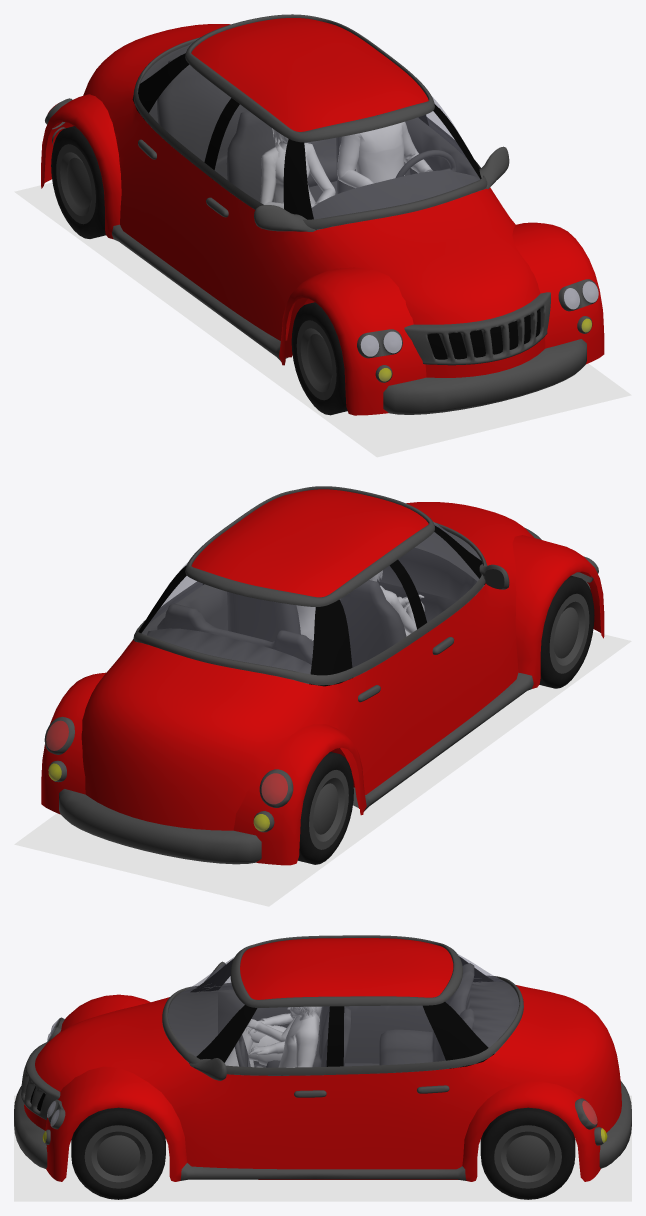
File: conceptSedan01.obj
3 renders of one model, top to bottom at view 1: azimuth 30°, elevation 25°; view 2: azimuth 150°, elevation 25°; view 3: azimuth 270°, elevation 25°, orthographic. The views are drawn at different scales.
Parts seen in each view (by area): view 1: 31, 8, Car_fenders_Car_fenders_Car_36, ground_1, 25, Bumper_Bumper_Chrome_7, 14, Interior_Interior_Interior_32, Rear_seats_Rear_seats_Interior_5, Car_body_Mesh_Chrome_13, Object01_2576_42, Front_seats_Front_seats_Interior_16 (+10 smaller); view 2: 31, 8, Car_fenders_Car_fenders_Car_36, ground_1, Interior_Interior_Interior_32, 25, Bumper_Bumper_Chrome_7, Front_seats_Front_seats_Interior_16, 14, Car_fenders_Car_fenders_Chrome_29, Rear_seats_Rear_seats_Interior_5, 20 (+7 smaller); view 3: 31, 8, ground_1, Car_fenders_Car_fenders_Car_36, Interior_Interior_Interior_32, 25, 14, 30, Tire_Tire_Tire_Rubber_35, Tire_Tire_Chrome_37, 6, Car_fenders_Car_fenders_Chrome_29 (+9 smaller).
Part boxes in pixels (x1,y1,x2,y2): 31: (72,18,545,377); 8: (141,43,485,229); Car_fenders_Car_fenders_Car_36: (41,94,604,415); ground_1: (14,182,631,457); 25: (133,14,487,229); Bumper_Bumper_Chrome_7: (383,339,586,414); 14: (132,53,540,359); Interior_Interior_Interior_32: (140,45,486,229); Rear_seats_Rear_seats_Interior_5: (157,59,336,187); Car_body_Mesh_Chrome_13: (404,292,550,365); Object01_2576_42: (337,121,432,188); Front_seats_Front_seats_Interior_16: (226,111,410,201); 31: (81,489,533,830); 8: (142,521,484,683); Car_fenders_Car_fenders_Car_36: (41,535,604,865); ground_1: (14,631,631,906); Interior_Interior_Interior_32: (135,530,484,683); 25: (133,486,487,685); Bumper_Bumper_Chrome_7: (59,789,261,864); Front_seats_Front_seats_Interior_16: (227,580,406,667); 14: (133,525,485,686); Car_fenders_Car_fenders_Chrome_29: (353,672,533,811); Rear_seats_Rear_seats_Interior_5: (157,603,313,664); 20: (549,593,589,673); 31: (24,938,621,1179); 8: (168,954,518,1067); ground_1: (14,1095,631,1201); Car_fenders_Car_fenders_Car_36: (45,994,600,1181); Interior_Interior_Interior_32: (162,981,523,1075); 25: (162,935,523,1075); 14: (30,956,494,1111); 30: (480,1107,575,1199); Tire_Tire_Tire_Rubber_35: (71,1107,165,1199); Tire_Tire_Chrome_37: (84,1125,152,1188); 6: (494,1125,561,1188); Car_fenders_Car_fenders_Chrome_29: (180,1163,466,1180).
Size of the model in its own units: 185 by 155 by 456.
